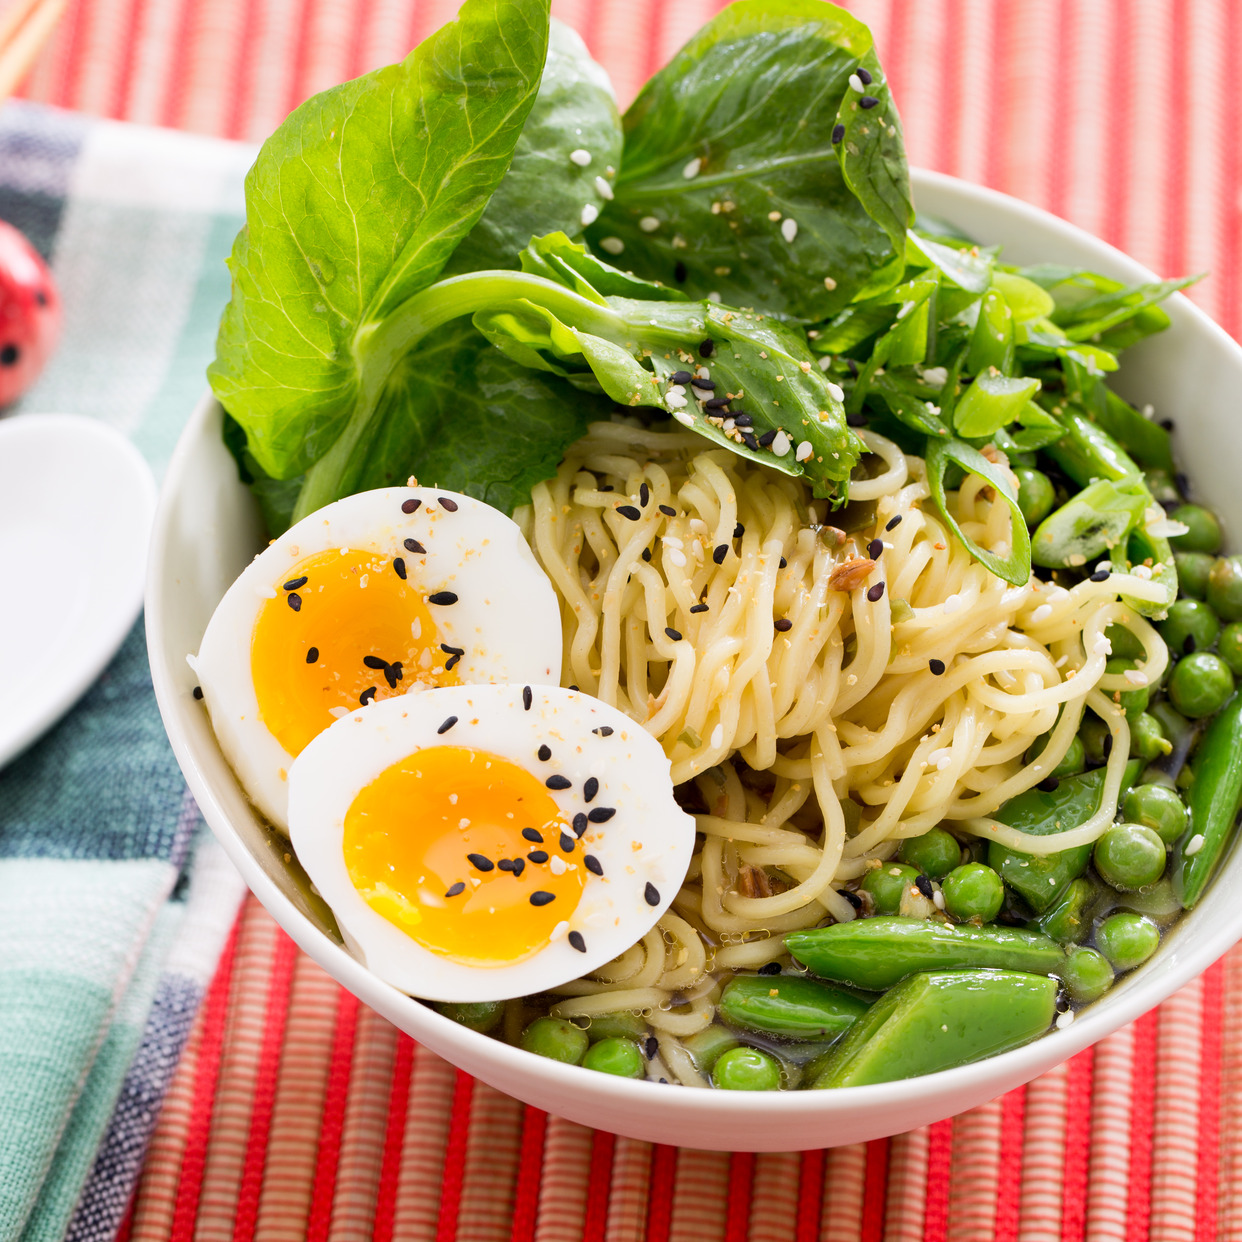boiled peas: (1167, 595, 1214, 764)
chopped lettuce: (317, 124, 814, 389)
fried egg: (223, 524, 645, 995)
plain spaghetti: (684, 499, 1022, 742)
